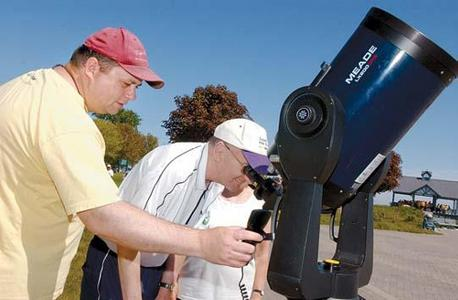person: (77, 118, 271, 300)
